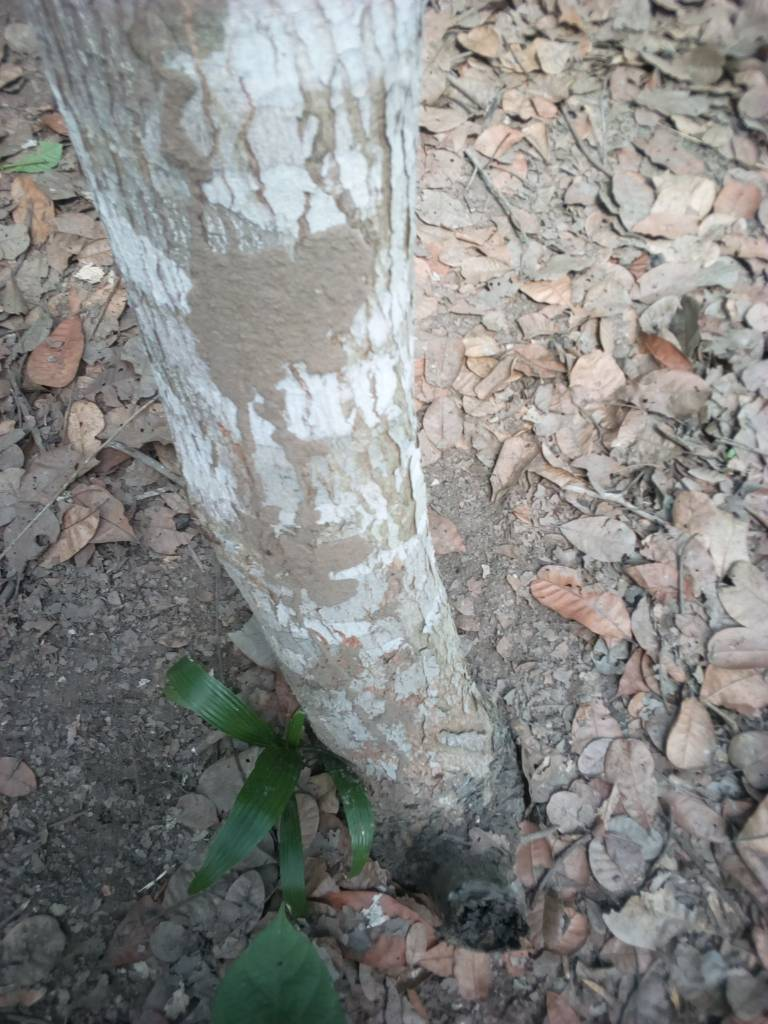Termites: (188, 160, 394, 646)
